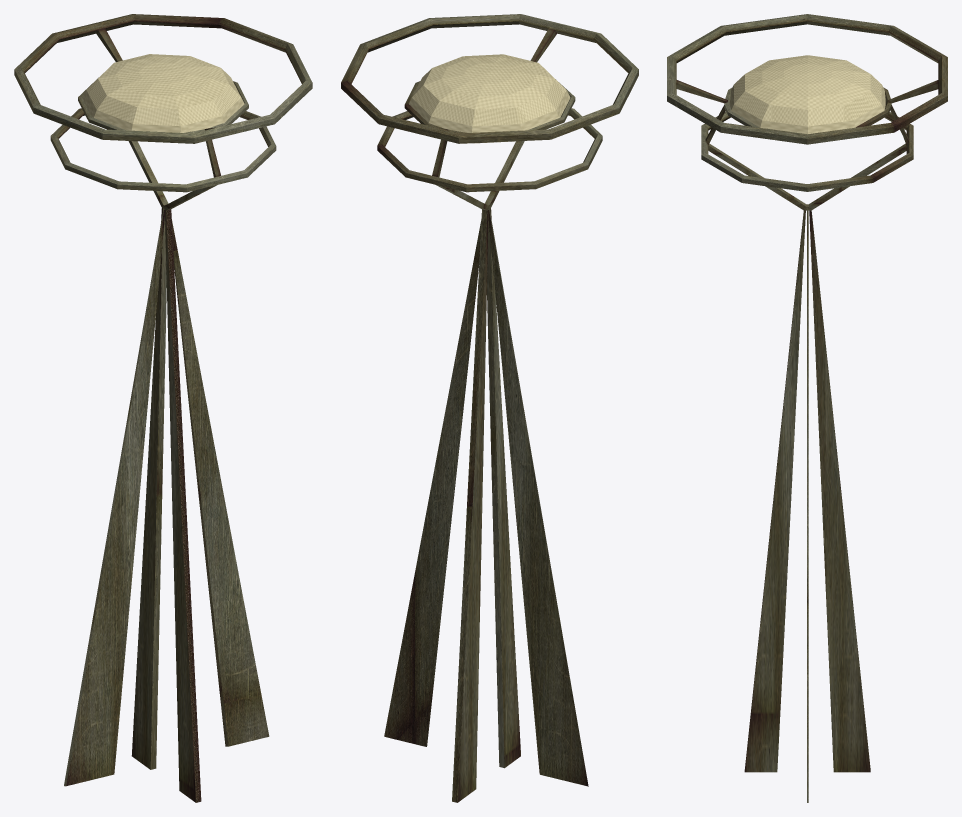
The model's file is LightSource.fbx.
The picture shows the model from 3 angles, left to right: view 1: azimuth 30°, elevation 25°; view 2: azimuth 150°, elevation 25°; view 3: azimuth 270°, elevation 25°; orthographic projection.
Visible parts, largest first — view 1: pTorus5, pSphere1; view 2: pTorus5, pSphere1; view 3: pTorus5, pSphere1.
Part boxes in pixels (box(x1,y1,x2,y2)): pTorus5: box(14, 14, 312, 802); pSphere1: box(83, 54, 244, 132); pTorus5: box(341, 14, 638, 802); pSphere1: box(409, 54, 570, 143); pTorus5: box(667, 14, 947, 802); pSphere1: box(730, 55, 885, 134).
Bounding box in the file's own units: 1.76 × 4.59 × 1.67.
2 materials, 2 textured.
